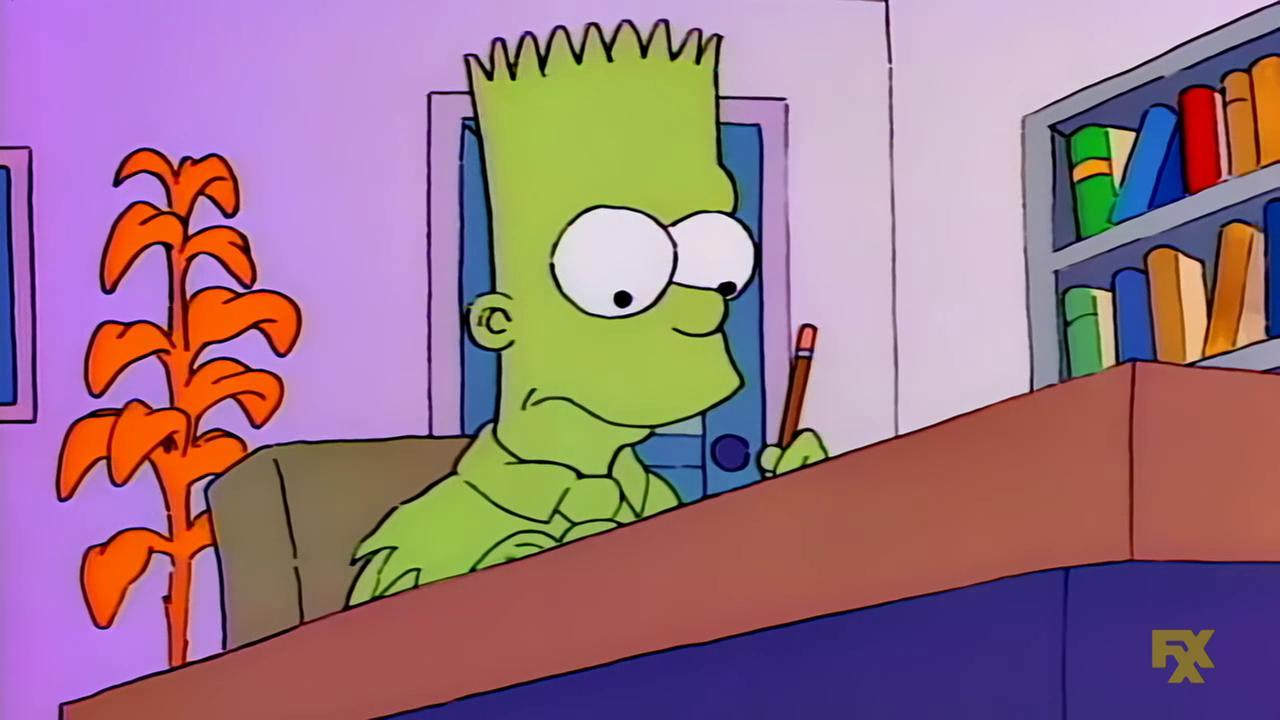Bart: (406, 12, 847, 522)
